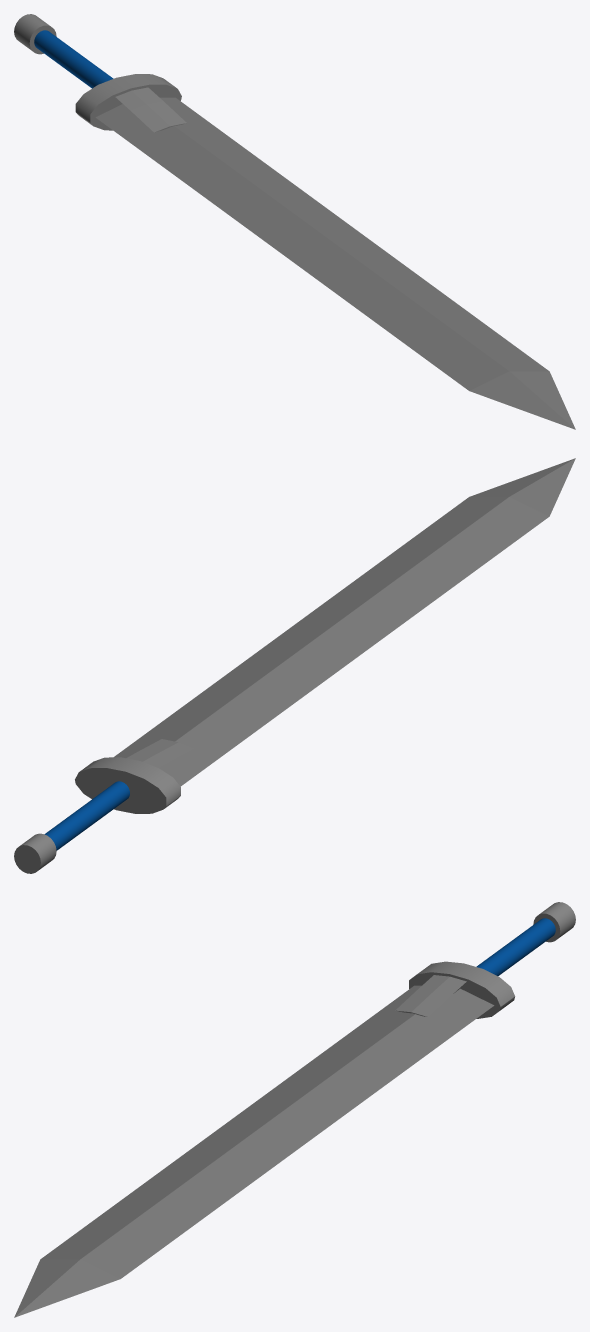
Rendered from claymore.fbx.
The picture shows the model from 3 angles, top to bottom: view 1: azimuth 30°, elevation 25°; view 2: azimuth 150°, elevation 25°; view 3: azimuth 330°, elevation 25°; orthographic projection.
Parts seen in each view (by area): view 1: polySurface3; view 2: polySurface3; view 3: polySurface3.
Part boxes in pixels (x1,y1,x2,y2): polySurface3: (14,14,575,429); polySurface3: (14,458,575,873); polySurface3: (14,902,575,1317).
Bounding box in the file's own units: 91.11 × 38.75 × 944.
